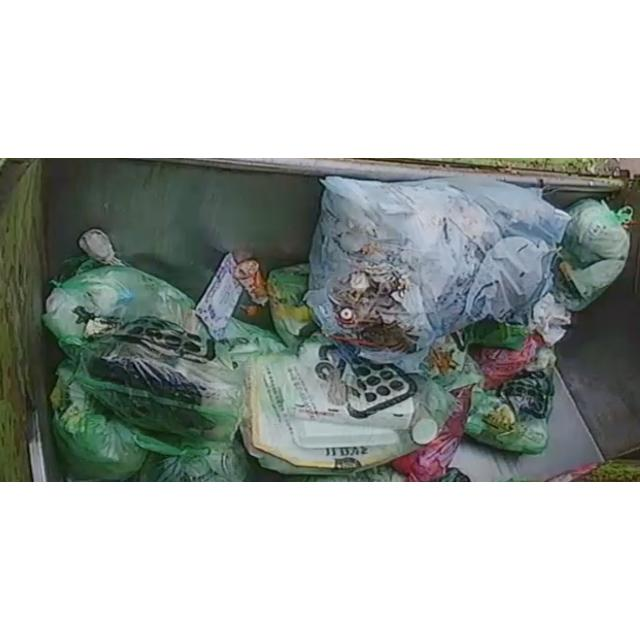general_trashbag: (241, 338, 454, 474), (76, 317, 241, 440), (44, 266, 209, 340), (51, 360, 148, 480), (465, 347, 556, 454), (555, 199, 632, 310), (125, 427, 248, 482), (266, 264, 318, 352)
other_trashbag: (305, 177, 570, 362)
